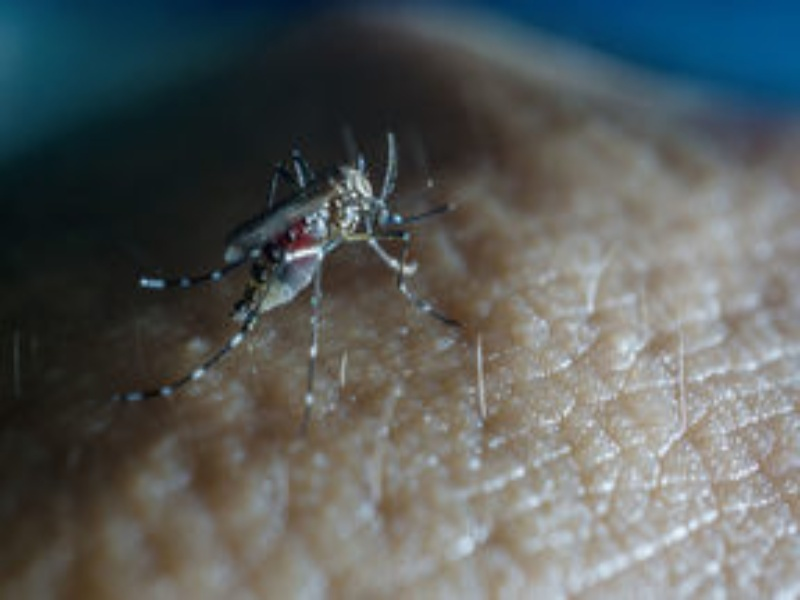dengue_mosquito: (137, 139, 476, 404)
